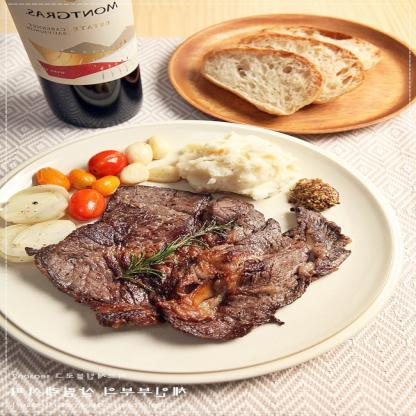Carne: (31, 182, 228, 334), (151, 202, 348, 340)
